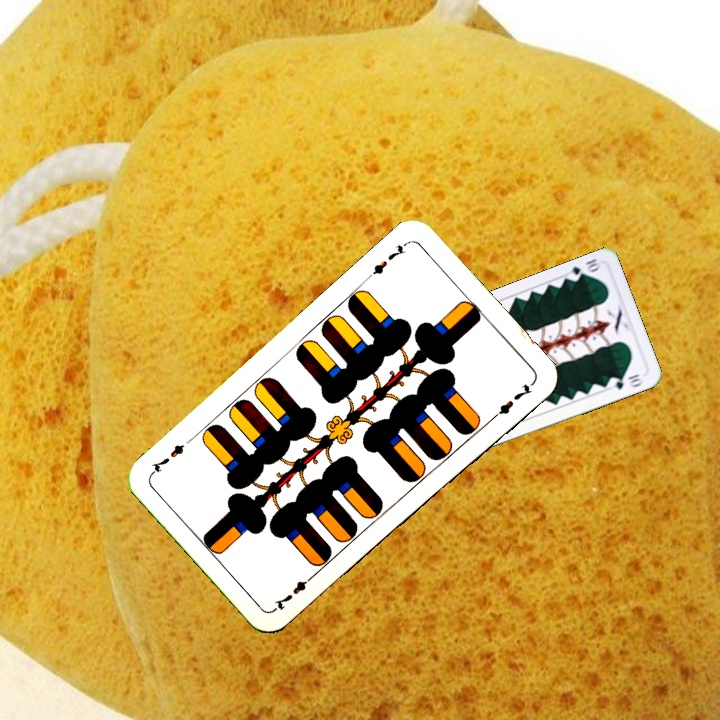E7: (270, 569, 319, 613), (363, 238, 411, 282)
G10: (565, 255, 604, 284)
